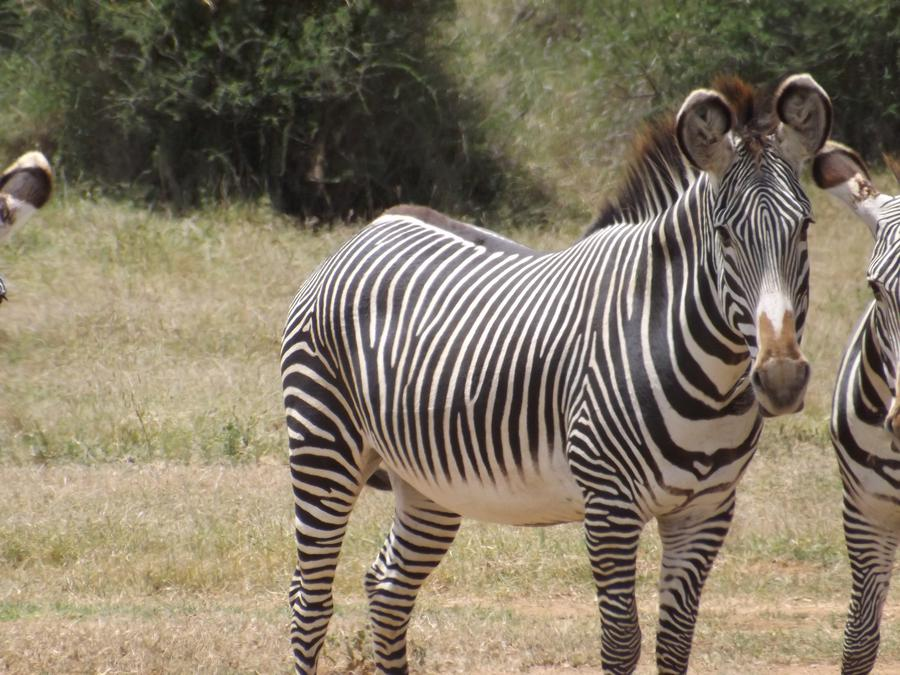zebra_grevys: (279, 183, 682, 519)
